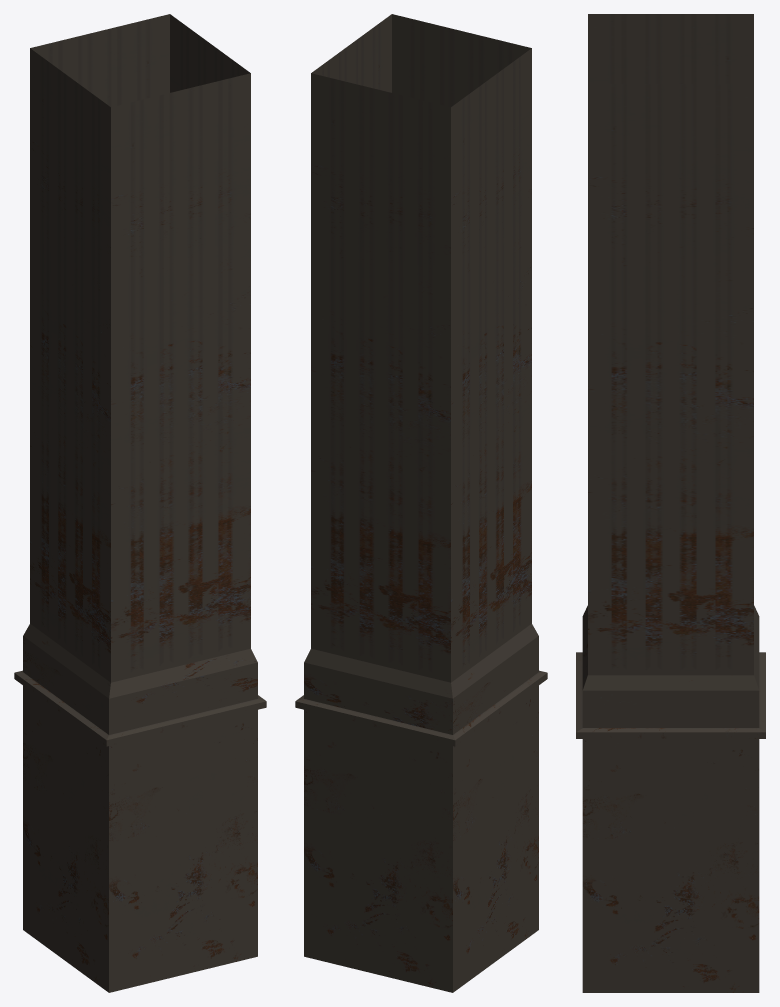
Rendered from Metal_Column_Bottom.gltf.
3 renders of one model, left to right at view 1: azimuth 30°, elevation 25°; view 2: azimuth 150°, elevation 25°; view 3: azimuth 270°, elevation 25°, orthographic. The views are drawn at different scales.
Parts seen in each view (by area): view 1: Metal_Column_Bottom; view 2: Metal_Column_Bottom; view 3: Metal_Column_Bottom.
Boxes of the visible parts, x1=… form: Metal_Column_Bottom: x1=14, y1=14, x2=266, y2=992; Metal_Column_Bottom: x1=295, y1=14, x2=547, y2=992; Metal_Column_Bottom: x1=576, y1=14, x2=765, y2=992.
Bounding box in the file's own units: 0.569 × 3 × 0.5694.
Materials: 1 (1 with a texture image).
